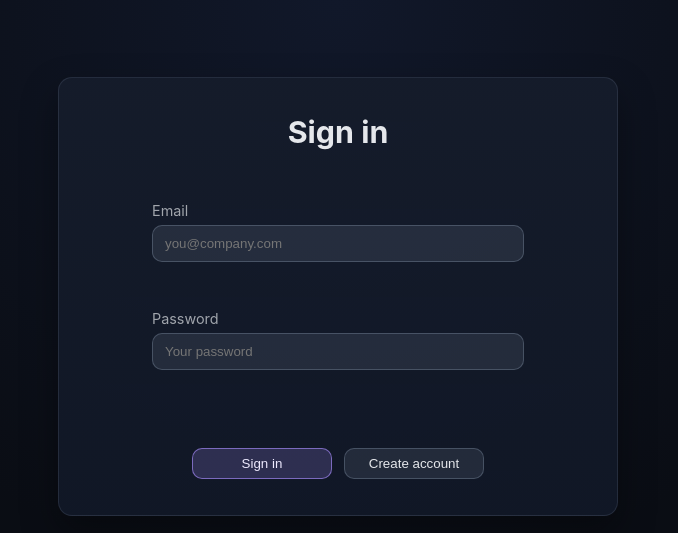
Login › shows required field errors on empty submit
Click the button "Sign in".
click(262, 464)  # box [192, 448, 332, 479]
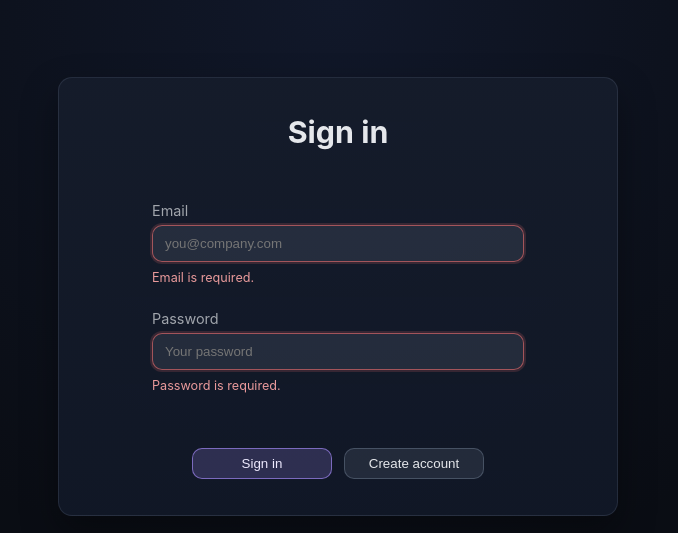
expect the text "Email is required." is shown: met, box [152, 270, 254, 285]
expect the text "Password is required." is shown: met, box [152, 378, 281, 393]
